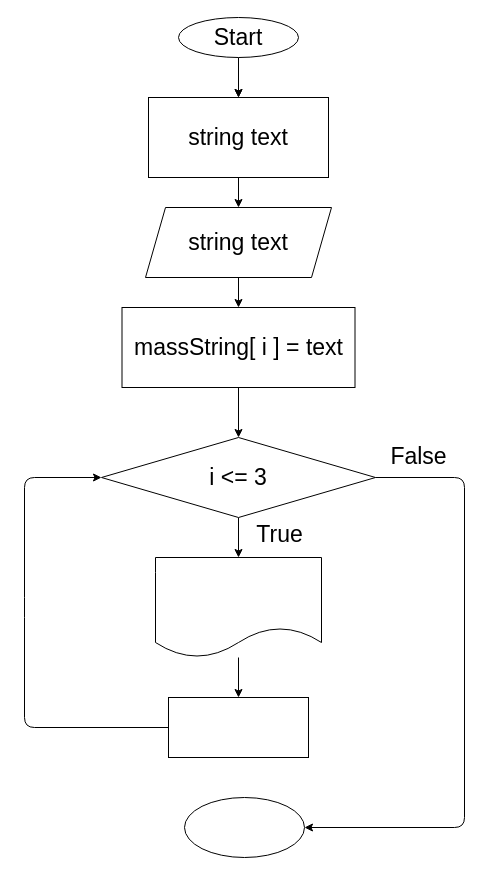
This 490x875 diagram has some shape labels left out. Each missing label, with the centre of its shape:
"Finish" goes at point (244, 827).
"i += 1" goes at point (238, 727).
"massString[ i ]" goes at point (238, 607).
